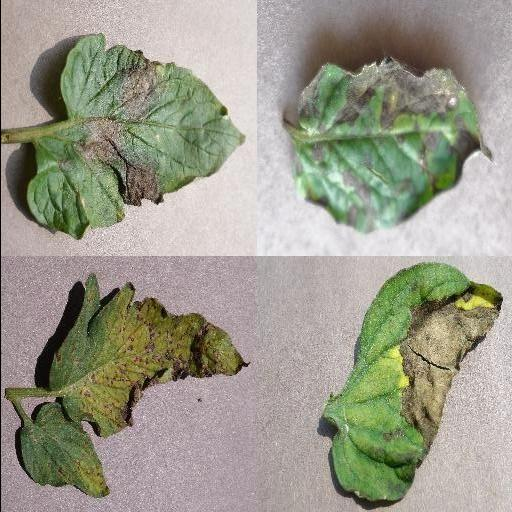Early Blight: (296, 55, 492, 235)
Late Blight: (25, 35, 243, 241), (331, 262, 503, 502)
Septoria: (48, 271, 250, 437)
